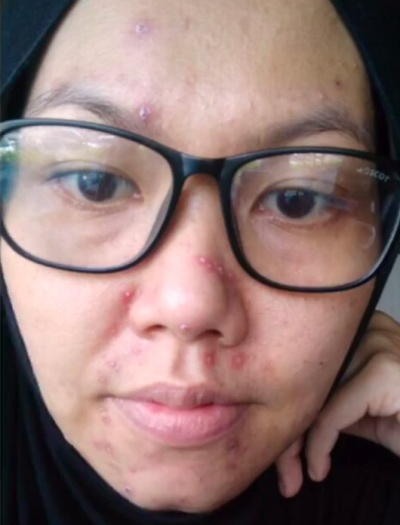jerawat: (134, 99, 155, 122), (131, 17, 152, 36), (202, 351, 220, 369), (230, 352, 248, 369), (221, 456, 239, 472), (106, 354, 121, 372), (224, 437, 242, 452), (120, 287, 136, 301), (195, 252, 210, 266), (106, 323, 119, 337), (178, 322, 192, 334), (332, 77, 345, 89), (316, 90, 328, 101), (216, 262, 226, 275), (104, 445, 114, 456), (123, 484, 133, 494), (351, 60, 359, 70)
